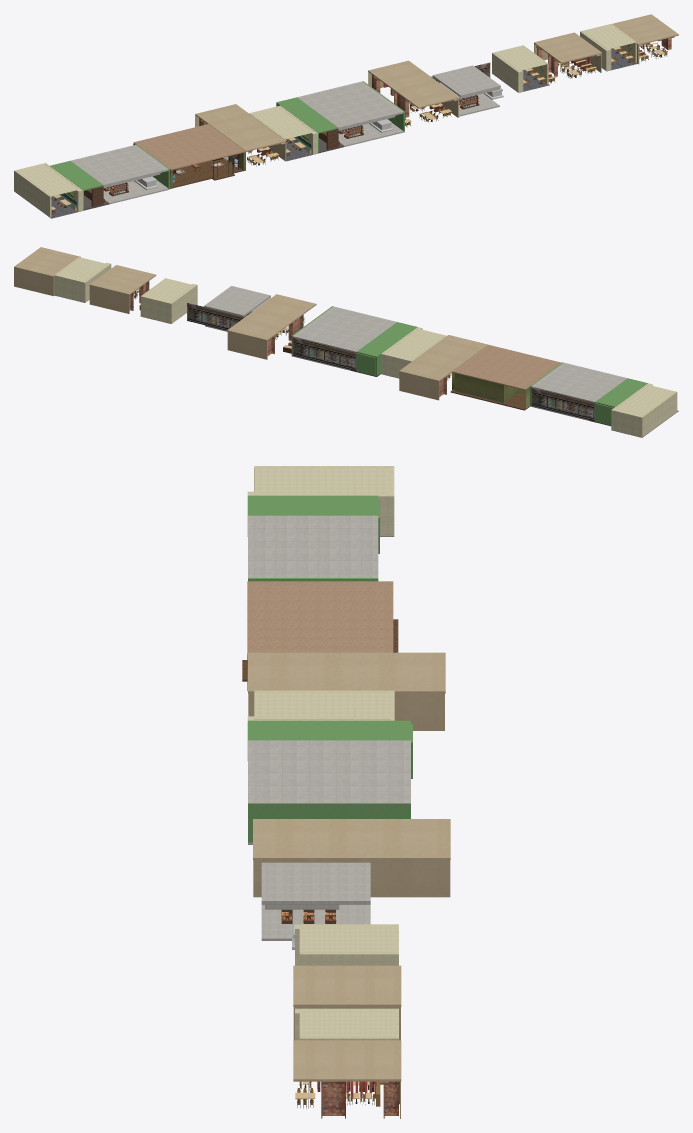
Rendered from lou28_shop.FBX.
3 views of the same model, one above another, from view 1: azimuth 30°, elevation 25°; view 2: azimuth 150°, elevation 25°; view 3: azimuth 270°, elevation 25° (orthographic). The views are drawn at different scales.
Parts seen in each view (by area): view 1: lou28_shop_03, lou28_shop_11, lou28_shop_19, lou28_shop_26, lou28_shop_05, lou28_shop_16, lou28_shop_24, lou28_shop_08, lou28_shop_12, lou28_shop_10, lou28_shop_02, lou28_shop_07 (+5 smaller); view 2: lou28_shop_11, lou28_shop_19, lou28_shop_03, lou28_shop_07, lou28_shop_26, lou28_shop_05, lou28_shop_25, lou28_shop_10, lou28_shop_24; view 3: lou28_shop_11, lou28_shop_03, lou28_shop_19, lou28_shop_26, lou28_shop_05, lou28_shop_10.
Part boxes in pixels (bbox=[...]): lou28_shop_03: bbox=[70, 65, 500, 204]; lou28_shop_11: bbox=[195, 14, 678, 161]; lou28_shop_19: bbox=[14, 23, 636, 217]; lou28_shop_26: bbox=[133, 124, 245, 170]; lou28_shop_05: bbox=[50, 81, 404, 209]; lou28_shop_16: bbox=[14, 48, 637, 218]; lou28_shop_24: bbox=[172, 158, 242, 188]; lou28_shop_08: bbox=[51, 36, 674, 215]; lou28_shop_12: bbox=[51, 44, 664, 209]; lou28_shop_10: bbox=[199, 37, 671, 125]; lou28_shop_02: bbox=[84, 95, 479, 202]; lou28_shop_07: bbox=[88, 62, 490, 194]; lou28_shop_11: bbox=[14, 247, 487, 400]; lou28_shop_19: bbox=[54, 257, 677, 437]; lou28_shop_03: bbox=[204, 286, 627, 420]; lou28_shop_07: bbox=[187, 303, 594, 420]; lou28_shop_26: bbox=[452, 345, 561, 390]; lou28_shop_05: bbox=[291, 306, 647, 425]; lou28_shop_25: bbox=[452, 372, 529, 408]; lou28_shop_10: bbox=[129, 281, 446, 396]; lou28_shop_24: bbox=[450, 389, 529, 410]; lou28_shop_11: bbox=[248, 652, 450, 1118]; lou28_shop_03: bbox=[248, 515, 410, 940]; lou28_shop_19: bbox=[247, 466, 398, 1040]; lou28_shop_26: bbox=[247, 581, 393, 655]; lou28_shop_05: bbox=[248, 495, 412, 842]; lou28_shop_10: bbox=[321, 1081, 398, 1118].
Size of the model in its own units: 91982 by 3001 by 13218.
